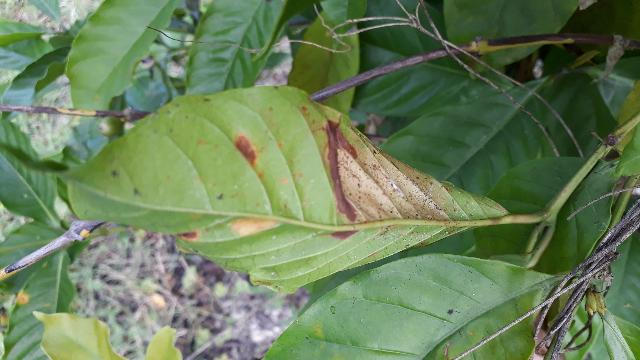red_spider_mite: (59, 85, 508, 295)
